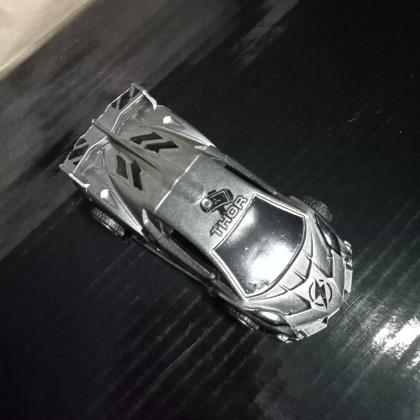Car: (59, 84, 353, 344)
